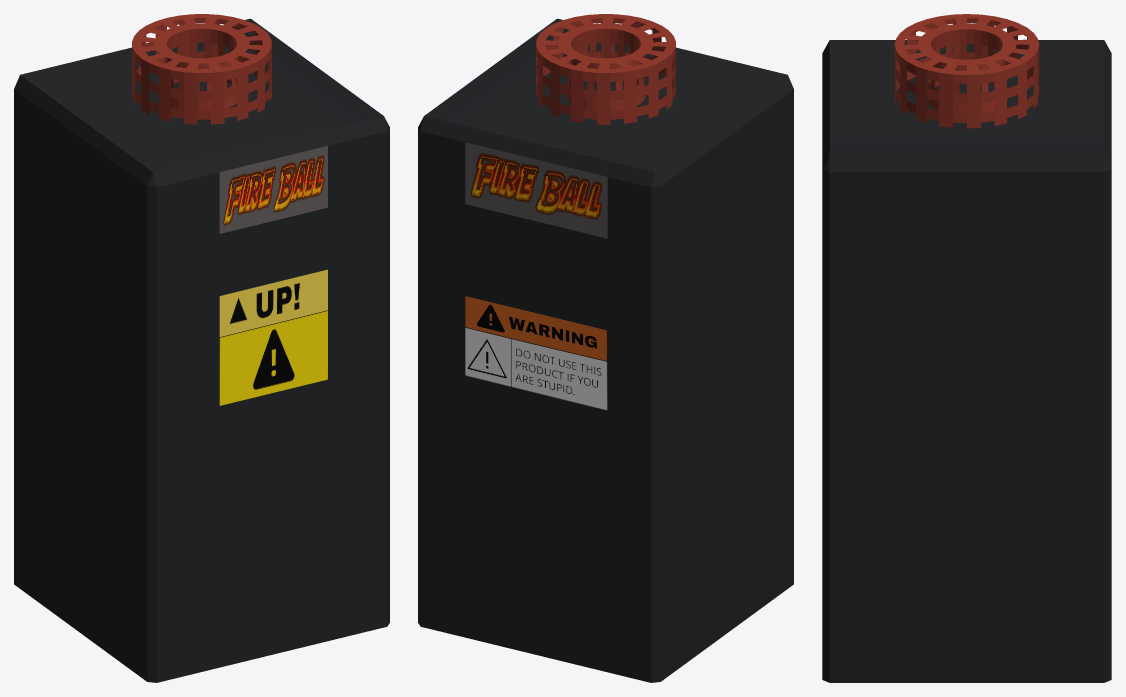
File: FireBallMachine3.fbx
The picture shows the model from 3 angles, left to right: view 1: azimuth 30°, elevation 25°; view 2: azimuth 150°, elevation 25°; view 3: azimuth 270°, elevation 25°; orthographic projection. The views are drawn at different scales.
Visible parts, largest first — view 1: Cube, Cylinder; view 2: Cube, Cylinder; view 3: Cube, Cylinder.
Part boxes in pixels (x1,y1,x2,y2): Cube: (14,18,389,682); Cylinder: (132,14,271,124); Cube: (418,18,793,682); Cylinder: (536,14,675,124); Cube: (822,40,1111,682); Cylinder: (894,14,1039,128).
Size of the model in its own units: 40 by 88.16 by 40.
